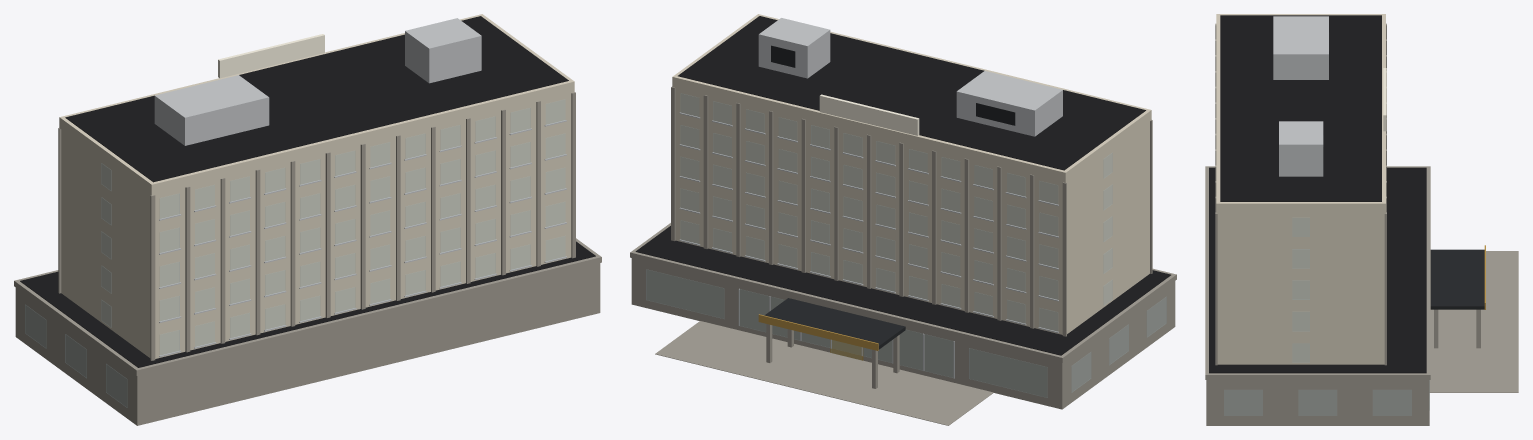
The model's file is context.type.hotel.glb.
The picture shows the model from 3 angles, left to right: view 1: azimuth 30°, elevation 25°; view 2: azimuth 150°, elevation 25°; view 3: azimuth 270°, elevation 25°; orthographic projection. The views are drawn at different scales.
Visible parts, largest first — view 1: walls__render, roof__roof_felt, walls__paving, openings__glass, openings__paving, roof__aluminium, roof__render, roof__paving, openings__aluminium, roof__light_emitter; view 2: walls__render, openings__glass, roof__roof_felt, walls__paving, ground__paving, openings__paving, roof__aluminium, roof__render, roof__paving, roof__steel_dark, openings__aluminium, roof__light_emitter (+1 smaller); view 3: roof__roof_felt, walls__render, walls__paving, ground__paving, roof__aluminium, openings__glass, roof__render, roof__paving, roof__steel_dark, openings__paving.
Part boxes in pixels (x1,y1,x2,y2): walls__render: [61, 93, 571, 358]; roof__roof_felt: [20, 16, 595, 367]; walls__paving: [15, 263, 600, 425]; openings__glass: [25, 99, 565, 407]; openings__paving: [58, 92, 575, 360]; roof__aluminium: [154, 18, 481, 145]; roof__render: [59, 14, 574, 195]; roof__paving: [14, 238, 601, 375]; openings__aluminium: [159, 120, 566, 357]; roof__light_emitter: [218, 34, 324, 78]; walls__render: [675, 88, 1149, 334]; openings__glass: [646, 93, 1166, 397]; roof__roof_felt: [635, 16, 1170, 355]; walls__paving: [631, 258, 1175, 409]; ground__paving: [655, 321, 993, 425]; openings__paving: [671, 86, 1152, 336]; roof__aluminium: [758, 18, 1062, 136]; roof__render: [672, 14, 1151, 182]; roof__paving: [630, 223, 1176, 362]; roof__steel_dark: [764, 45, 1015, 349]; openings__aluminium: [679, 112, 1058, 378]; roof__light_emitter: [819, 94, 919, 135]; roof__roof_felt: [1209, 15, 1426, 373]; walls__render: [1217, 213, 1384, 364]; walls__paving: [1206, 309, 1480, 425]; ground__paving: [1429, 251, 1518, 392]; roof__aluminium: [1273, 16, 1328, 176]; openings__glass: [1224, 218, 1411, 415]; roof__render: [1216, 14, 1385, 213]; roof__paving: [1205, 166, 1430, 379]; roof__steel_dark: [1323, 32, 1484, 309]; openings__paving: [1215, 23, 1386, 365].
Size of the model in its own units: 44.2 by 24.34 by 28.1.
